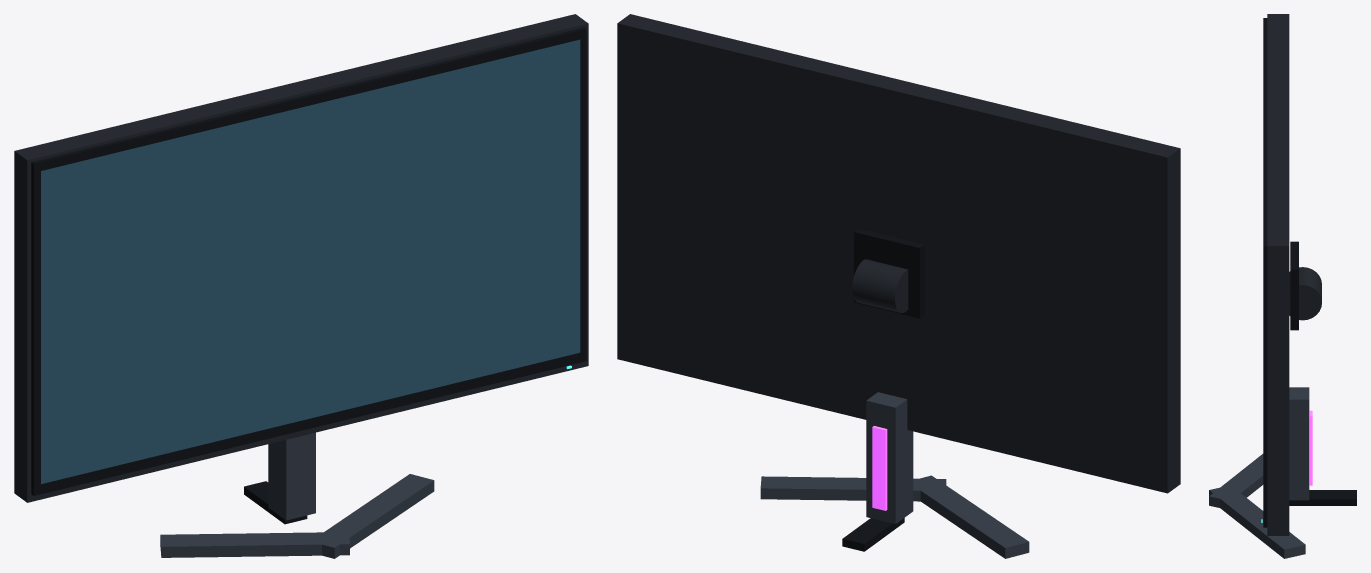
The model's file is monitor-aoc.glb.
3 renders of one model, left to right at view 1: azimuth 30°, elevation 25°; view 2: azimuth 150°, elevation 25°; view 3: azimuth 270°, elevation 25°, orthographic. The views are drawn at different scales.
Visible parts, largest first — view 1: monitor-AOC Q27G4S (×7); view 2: monitor-AOC Q27G4S (×8); view 3: monitor-AOC Q27G4S (×9).
Part boxes in pixels (x1,y1,x2,y2): monitor-AOC Q27G4S (×7): (14, 14, 588, 558); monitor-AOC Q27G4S (×8): (617, 14, 1180, 558); monitor-AOC Q27G4S (×9): (1209, 14, 1356, 558).
Size of the model in its own units: 4.5 by 3.37 by 1.21.
